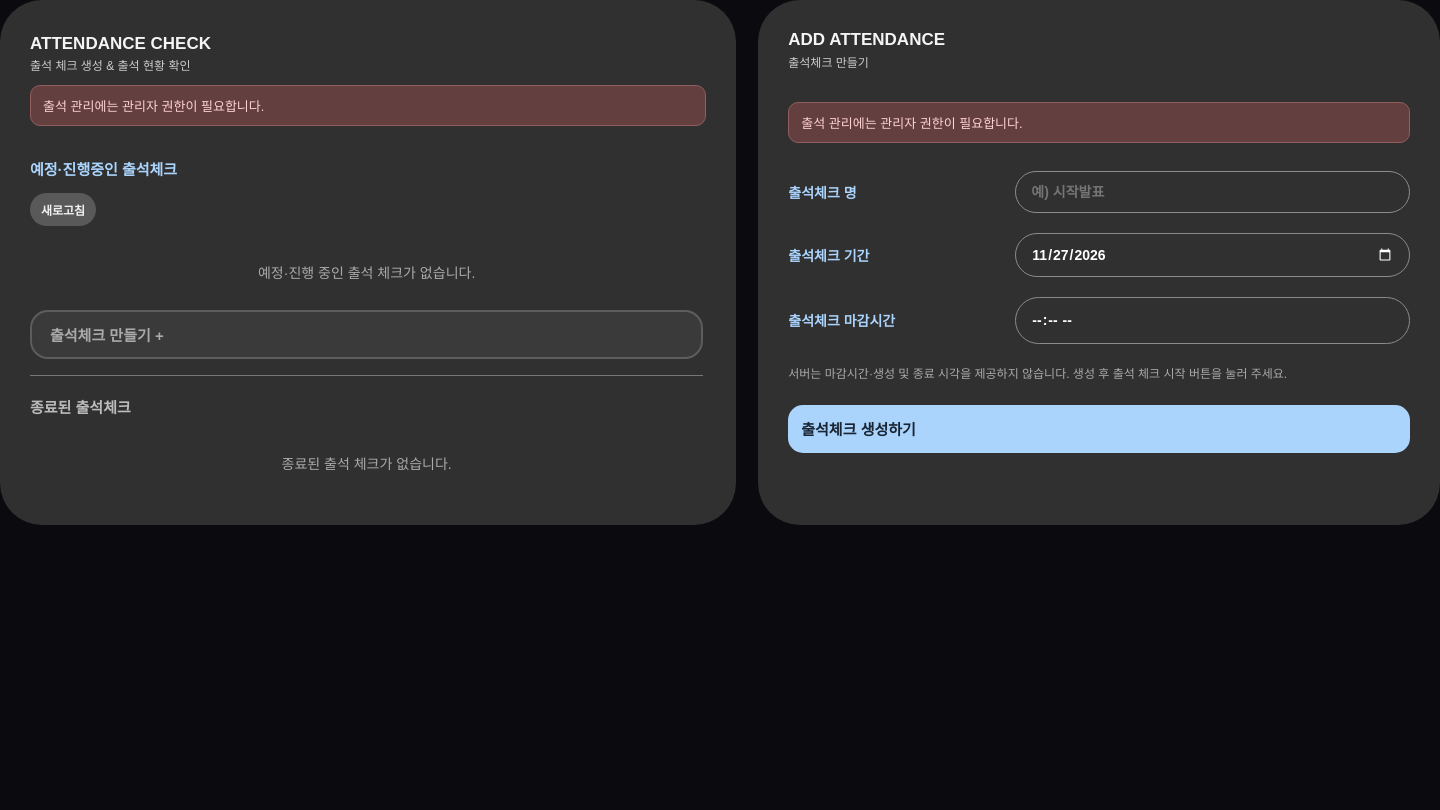
Test: 권한 부족 오류와 재시도를 표시한다
The width and height of the screenshot is (1440, 810).
Expected: the message "출석 관리에는 관리자 권한이 필요합니다." below "출석 체크 생성 & 출석 현황 확인" is shown, [43,99,264,114]
Click the button "새로고침".
click(63, 210)  # box [30,193,96,226]
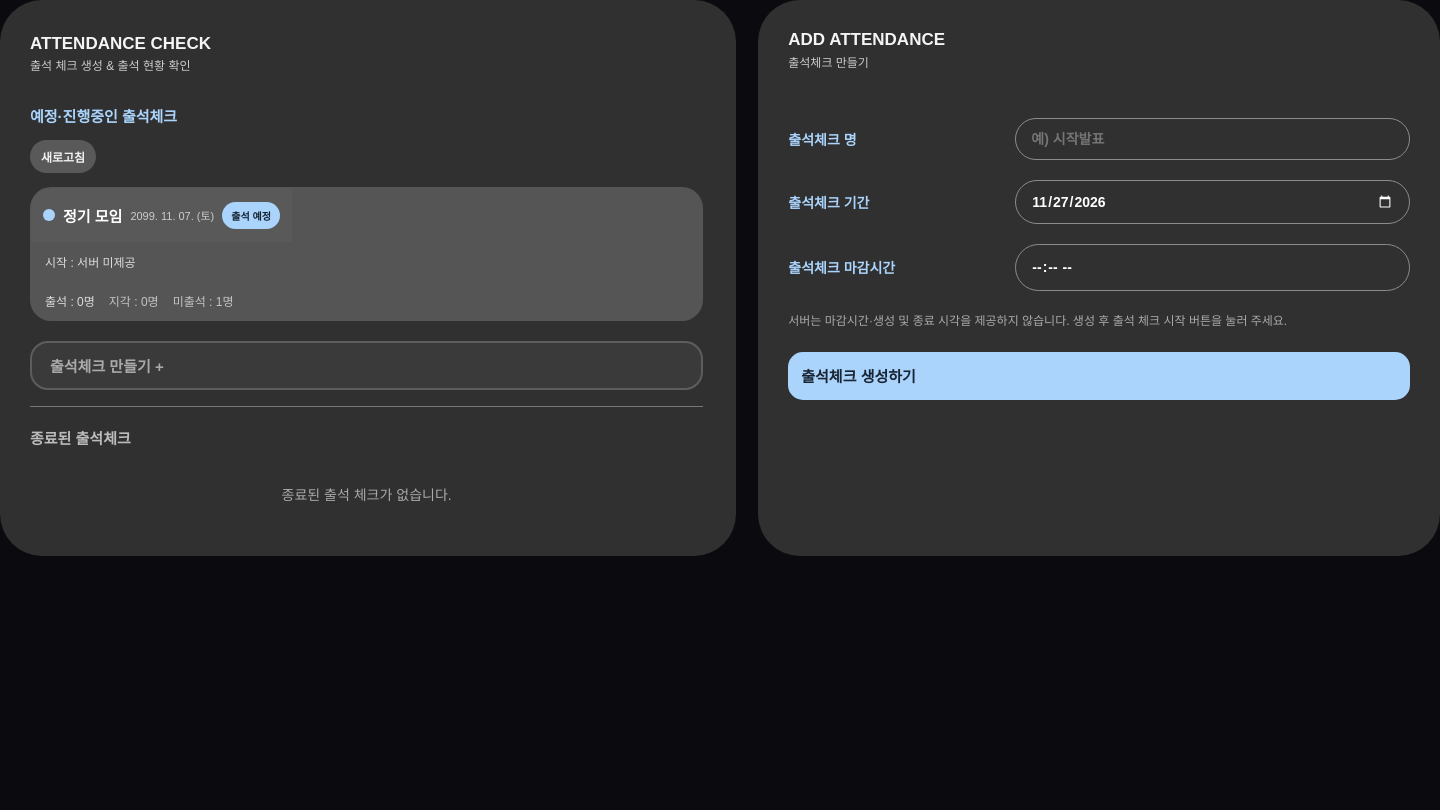
Expected: the text "정기 모임" is shown, [63,204,122,226]
